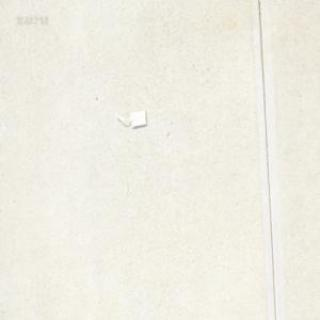LuggageTagtrack_idkeyframe: (112, 108, 147, 127)
